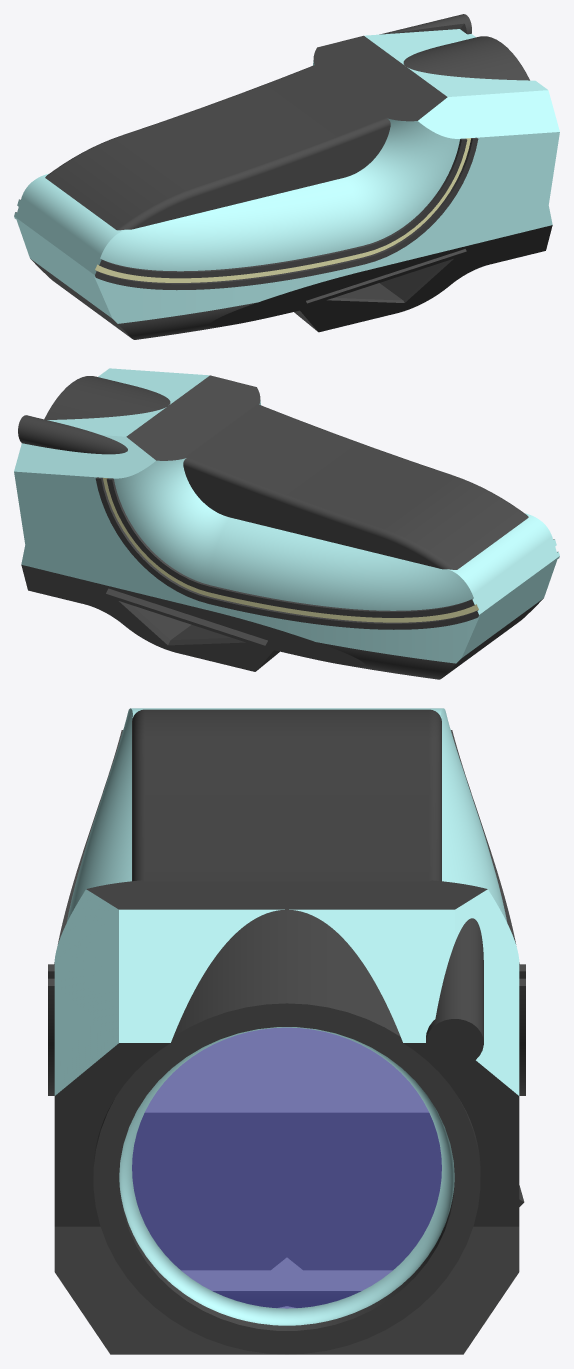
The model's file is camara.glb.
3 views of the same model, one above another, from view 1: azimuth 30°, elevation 25°; view 2: azimuth 150°, elevation 25°; view 3: azimuth 270°, elevation 25° (orthographic). The views are drawn at different scales.
Parts seen in each view (by area): view 1: camara project-1; view 2: camara project-1; view 3: camara project-1.
Boxes of the visible parts, left/top/right/bottom form: camara project-1: left=14, top=14, right=559, bottom=339; camara project-1: left=14, top=368, right=559, bottom=679; camara project-1: left=48, top=708, right=525, bottom=1354.
Bounding box in the file's own units: 0.0812 × 0.037 × 0.037.
